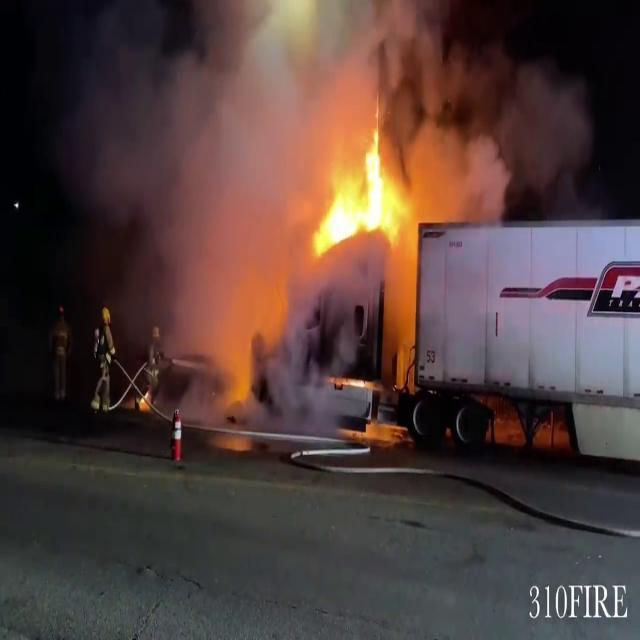Fire: (309, 122, 415, 266)
Smoke: (70, 0, 343, 392), (404, 18, 603, 232)
